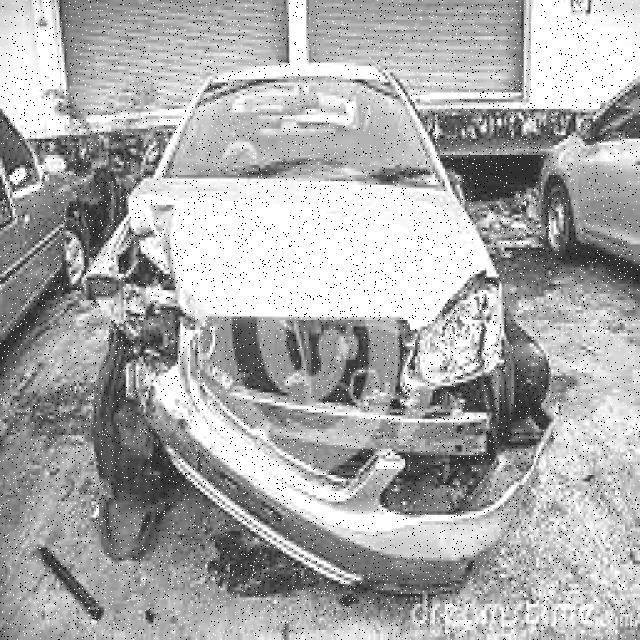car damage: (78, 179, 554, 592)
